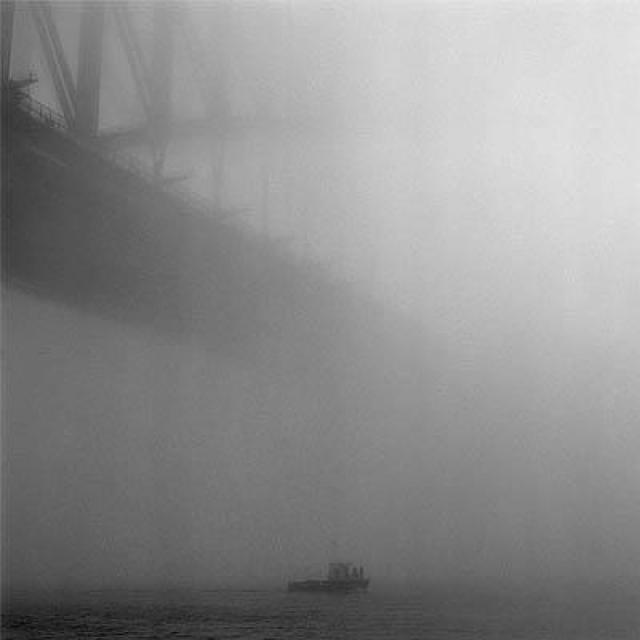fishing boat: (280, 545, 369, 601)
